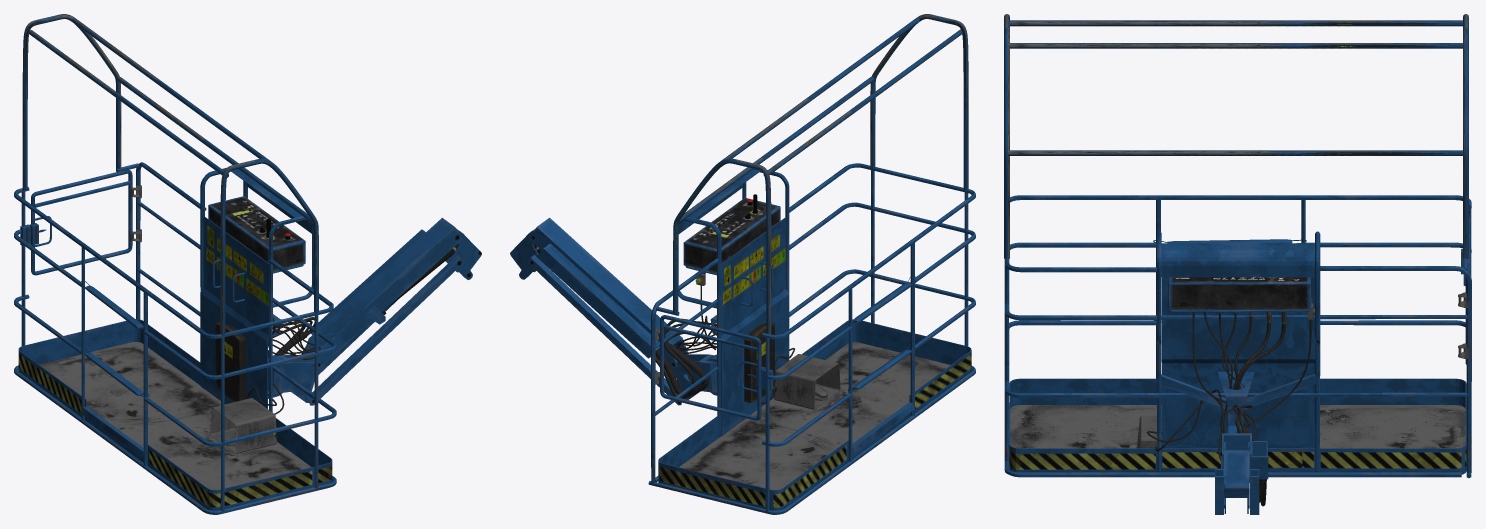
Rendered from Boomlift cage.fbx.
3 renders of one model, left to right at view 1: azimuth 30°, elevation 25°; view 2: azimuth 150°, elevation 25°; view 3: azimuth 270°, elevation 25°, orthographic. The views are drawn at different scales.
Parts seen in each view (by area): view 1: Cage, Support, Cntrl panel, Door, Wire; view 2: Cage, Support, Cntrl panel, Door, Wire; view 3: Cage, Support, Cntrl panel, Wire, Door.
Part boxes in pixels (x1,y1,x2,y2): Cage: (14,14,336,514); Support: (268,217,481,405); Cntrl panel: (208,196,305,271); Door: (29,170,141,275); Wire: (233,243,458,414); Cage: (648,14,975,514); Support: (510,217,717,405); Cntrl panel: (683,197,780,273); Door: (655,315,765,420); Wire: (533,243,794,403); Cage: (1004,14,1471,478); Support: (1161,373,1315,514); Cntrl panel: (1168,277,1310,309); Wire: (1146,312,1311,506); Door: (1458,217,1470,364).
Size of the model in its own units: 333 by 307 by 316.
5 materials, 5 textured.
